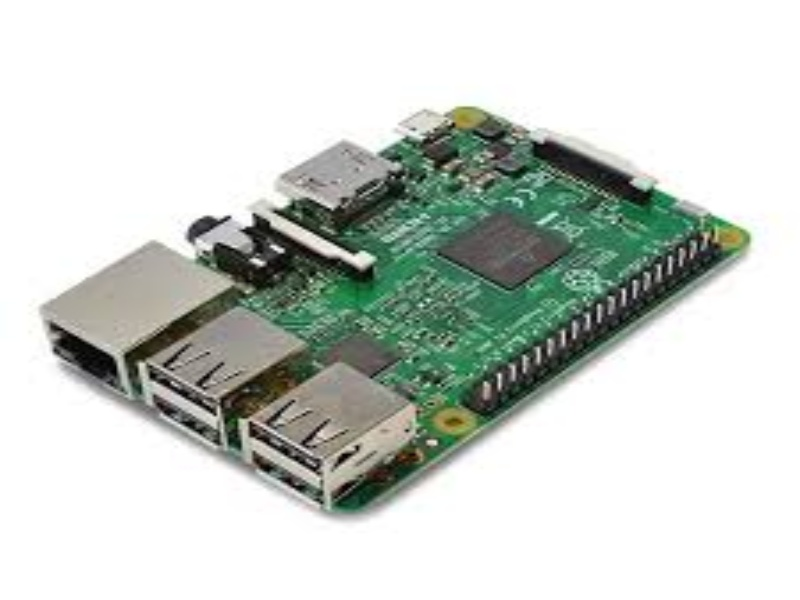raspberrypi: (42, 80, 755, 511)
